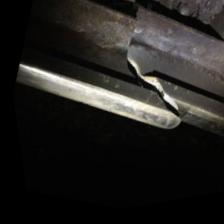person: (11, 0, 224, 211)
